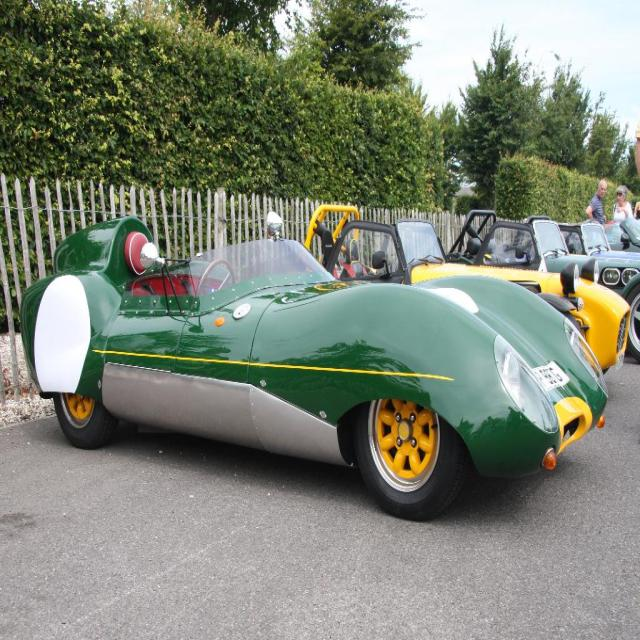car: (24, 225, 609, 509)
